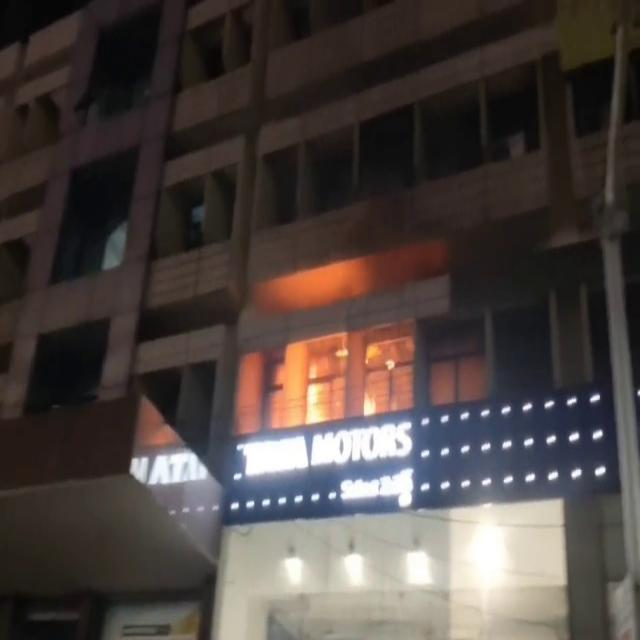Fire: (274, 339, 346, 430), (360, 396, 380, 420)
